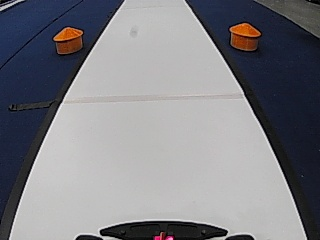granary: (228, 20, 261, 51), (52, 25, 84, 55)
